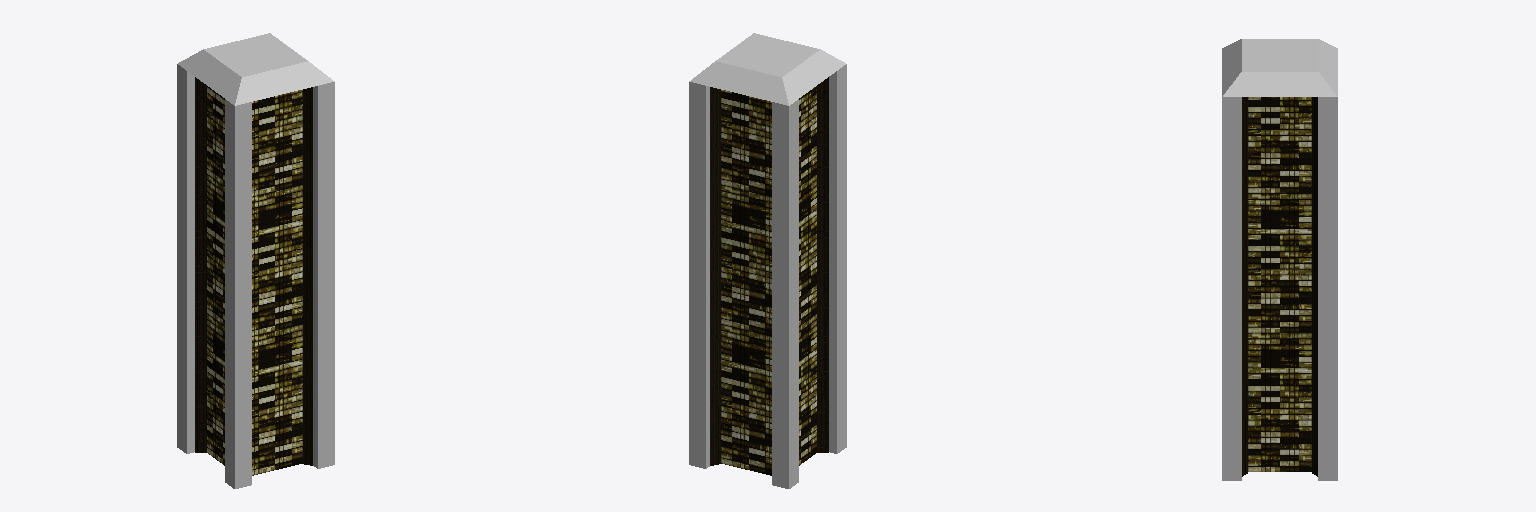
3 views of the same model, side by side, from view 1: azimuth 30°, elevation 25°; view 2: azimuth 150°, elevation 25°; view 3: azimuth 270°, elevation 25° (orthographic).
Parts seen in each view (by area): view 1: cube1, cube6, cube5, cube3, cube2, cylinder14, cylinder8; view 2: cube1, cube3, cube4, cube6, cube2, cylinder13, cylinder10; view 3: cube1, cube4, cube5, cube2, cylinder11, cylinder12.
Boxes of the visible parts, <box> form: cube1: <box>207,86,302,475</box>; cube6: <box>225,99,251,488</box>; cube5: <box>313,82,334,468</box>; cube3: <box>177,64,194,453</box>; cube2: <box>178,33,334,105</box>; cylinder14: <box>195,77,206,452</box>; cylinder8: <box>303,87,312,465</box>; cube1: <box>721,86,816,475</box>; cube3: <box>772,99,798,488</box>; cube4: <box>689,82,709,468</box>; cube6: <box>829,64,846,453</box>; cube2: <box>689,33,845,105</box>; cylinder13: <box>817,77,828,452</box>; cylinder10: <box>710,87,720,465</box>; cube1: <box>1248,97,1311,471</box>; cube4: <box>1318,97,1337,480</box>; cube5: <box>1222,97,1241,480</box>; cube2: <box>1222,39,1337,96</box>; cylinder11: <box>1242,97,1247,476</box>; cylinder12: <box>1312,97,1317,476</box>.
Bounding box in the file's own units: 768 × 2948 × 768.
2 materials, 1 textured.